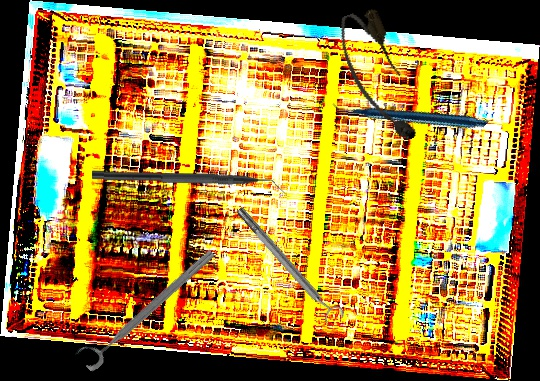Cannula: (331, 4, 425, 151)
Chopper: (91, 170, 288, 197)
Fixation Ring: (73, 238, 219, 374), (230, 200, 348, 330)
Handpiece: (331, 35, 490, 191)
